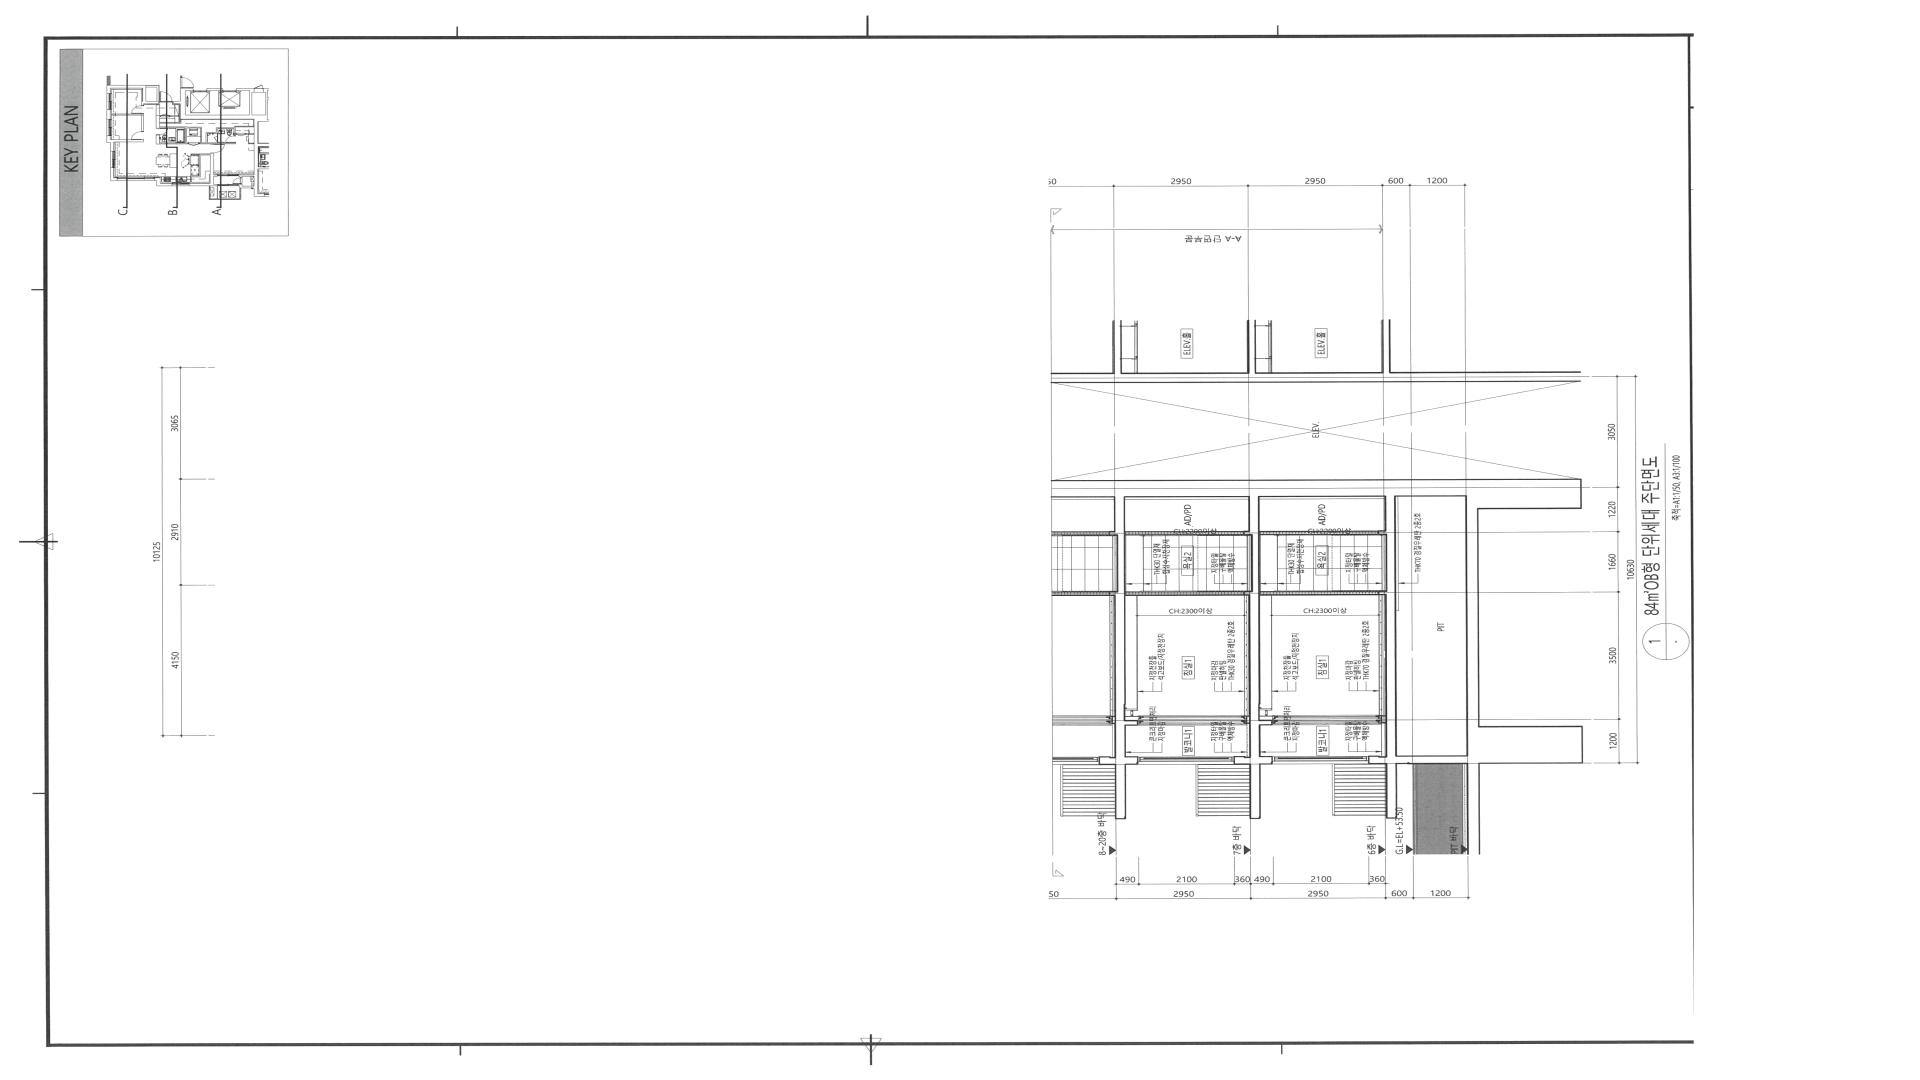background: (42, 34, 1706, 1046)
wall: (1051, 479, 1582, 855), (1394, 479, 1582, 509), (1259, 591, 1378, 596), (1259, 530, 1378, 535), (1125, 591, 1244, 596), (1125, 531, 1244, 535), (1125, 497, 1249, 500), (1259, 497, 1383, 500), (1125, 716, 1138, 720), (1259, 716, 1273, 720)
window: (1273, 715, 1382, 725), (1138, 716, 1246, 725), (1138, 756, 1233, 765), (1273, 756, 1367, 765)
